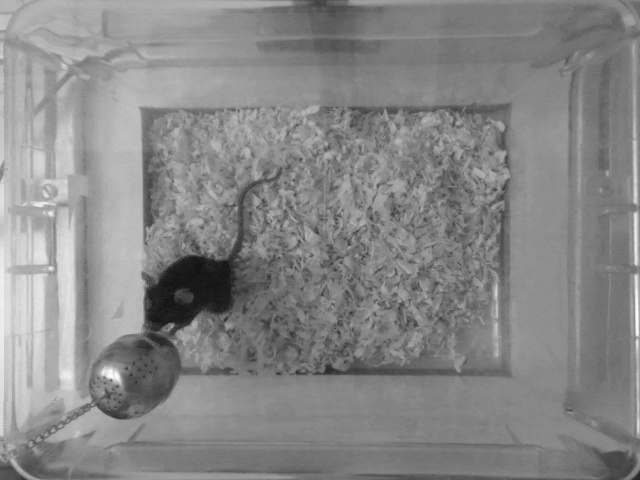mice: (139, 171, 289, 338)
